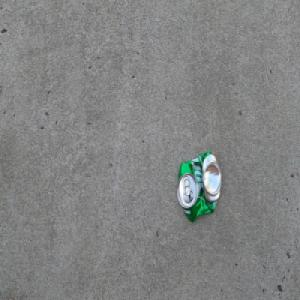SodaCan: (176, 150, 222, 223)
